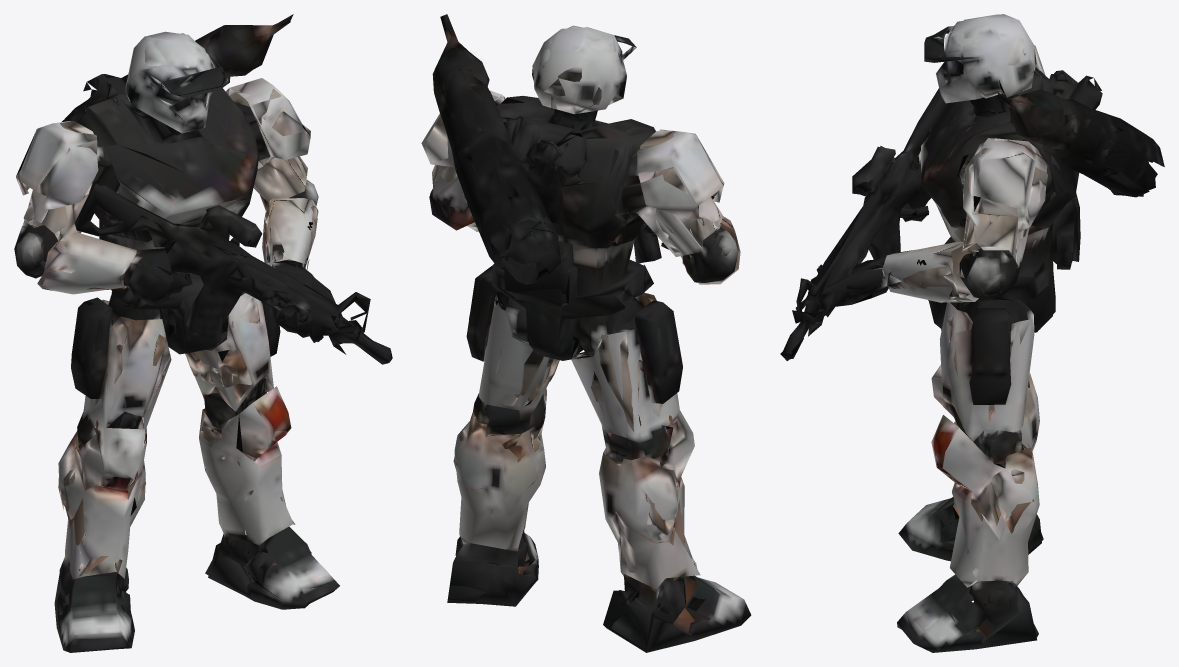
File: detail_9_lo.glb
3 renders of one model, left to right at view 1: azimuth 30°, elevation 25°; view 2: azimuth 150°, elevation 25°; view 3: azimuth 270°, elevation 25°, orthographic. The views are drawn at different scales.
Parts seen in each view (by area): view 1: Mesh_0.001; view 2: Mesh_0.001; view 3: Mesh_0.001.
Part boxes in pixels (x1,y1,x2,y2): Mesh_0.001: (14, 14, 392, 652); Mesh_0.001: (421, 14, 751, 652); Mesh_0.001: (780, 14, 1164, 652).
Size of the model in its own units: 0.5436 by 0.9982 by 0.6098.
1 material, 1 textured.
